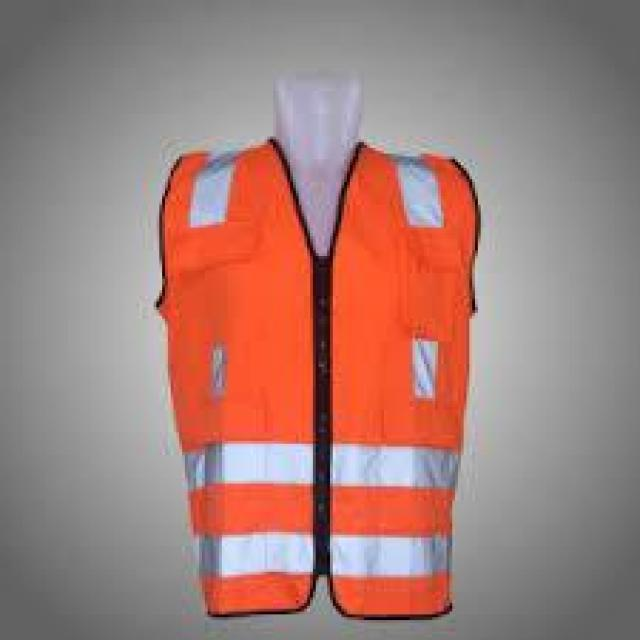vest: (142, 159, 484, 629)
